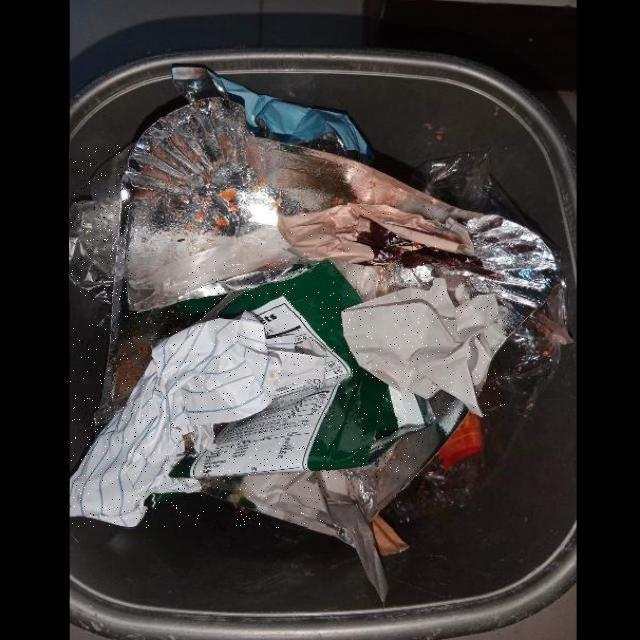paper: (70, 311, 326, 528), (341, 279, 506, 418), (279, 203, 475, 263)
plastic: (70, 143, 133, 303)
wrapper: (178, 260, 426, 480)
